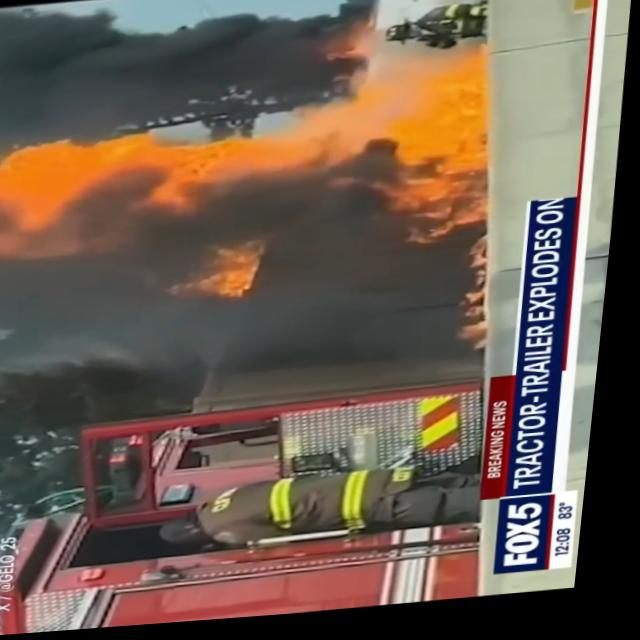Fire: (1, 113, 278, 235), (364, 41, 516, 227), (175, 237, 275, 313)
